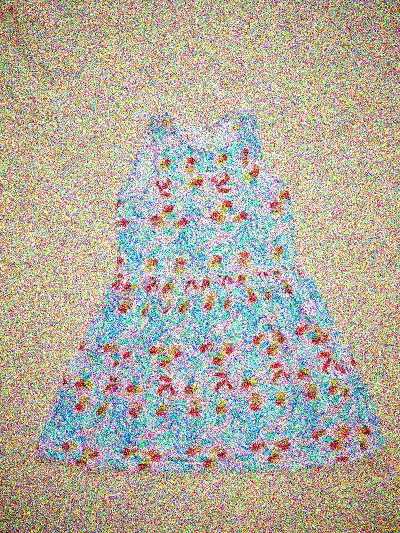Dress: (21, 104, 379, 476)
